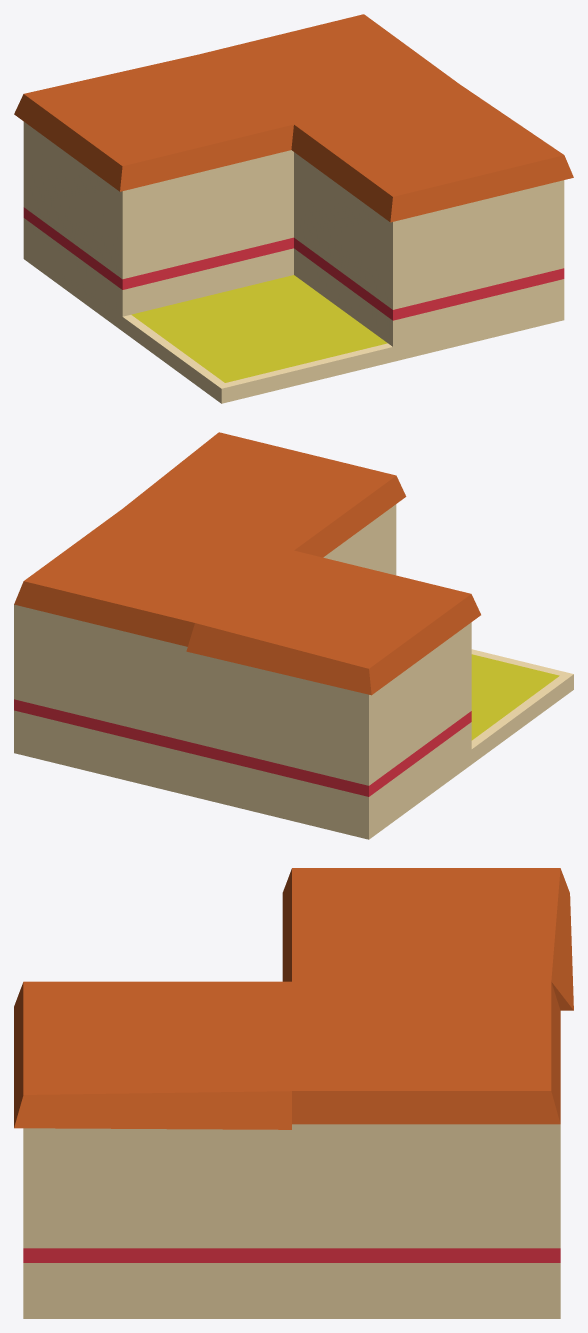
The model's file is House_11.fbx.
3 renders of one model, top to bottom at view 1: azimuth 30°, elevation 25°; view 2: azimuth 150°, elevation 25°; view 3: azimuth 270°, elevation 25°, orthographic. The views are drawn at different scales.
Visible parts, largest first — view 1: House_11; view 2: House_11; view 3: House_11.
Part boxes in pixels (x1,y1,x2,y2): House_11: (14, 14, 573, 403); House_11: (14, 432, 573, 839); House_11: (14, 868, 573, 1318).
Bounding box in the file's own units: 261 × 115 × 261.
